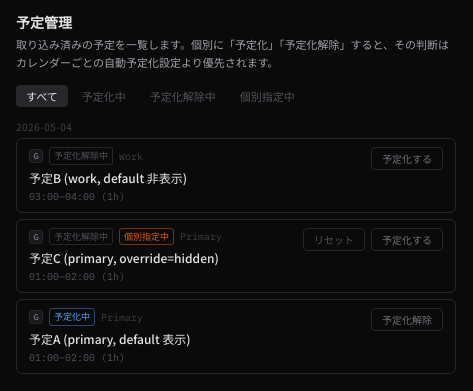
Test case: EventManagement (Issue #145) › 「予定化解除中」フィルタで effective hidden のみ表示
Click the tab "予定化解除中" at (183, 96), box [140,85,226,107]
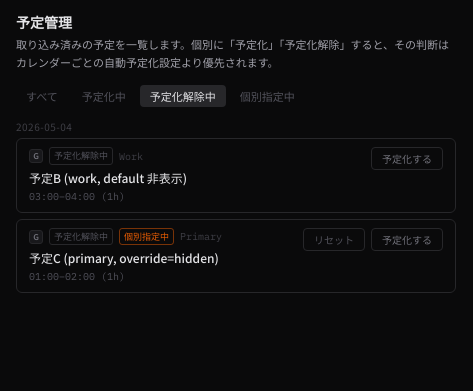
Expected: the text "予定B (work, default 非表示)" is shown, [29,169,187,186]
Now the text "予定A" is gone
